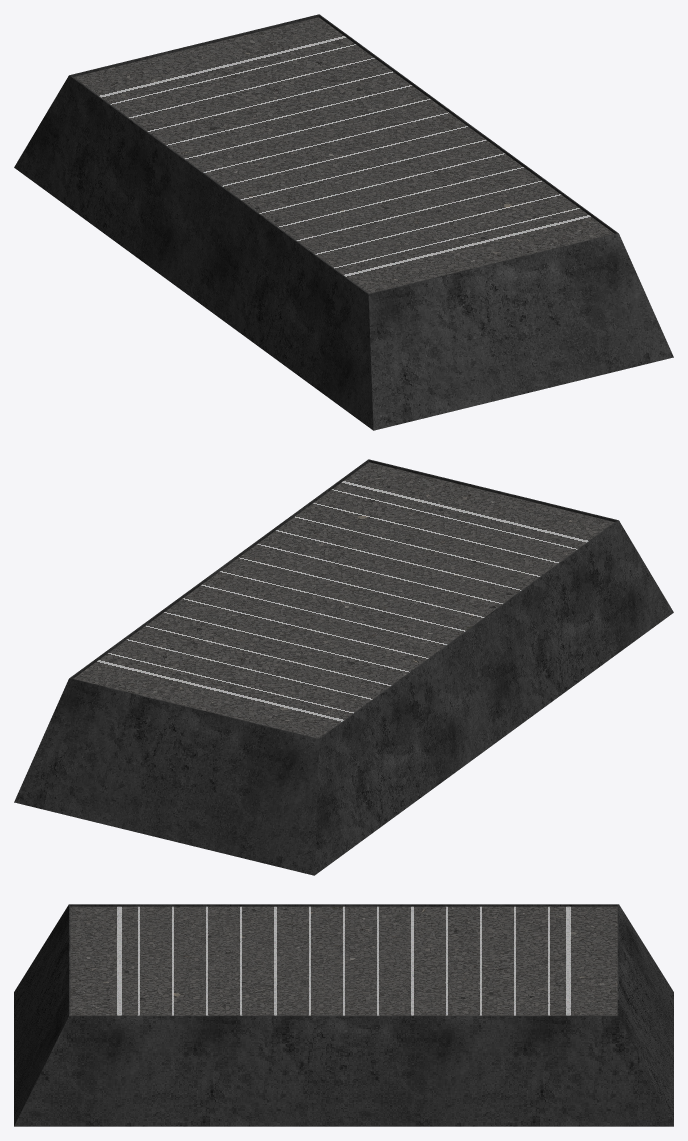
Rendered from starfield_field.glb.
3 views of the same model, one above another, from view 1: azimuth 30°, elevation 25°; view 2: azimuth 150°, elevation 25°; view 3: azimuth 270°, elevation 25° (orthographic). The views are drawn at different scales.
Parts seen in each view (by area): view 1: starfield_field; view 2: starfield_field; view 3: starfield_field.
Boxes of the visible parts, x1=… form: starfield_field: x1=14, y1=14, x2=673, y2=430; starfield_field: x1=14, y1=459, x2=673, y2=875; starfield_field: x1=14, y1=904, x2=673, y2=1126.
Size of what is drawn, in the model's own units: 145 by 50 by 301.
Materials: 2 (2 with a texture image).
